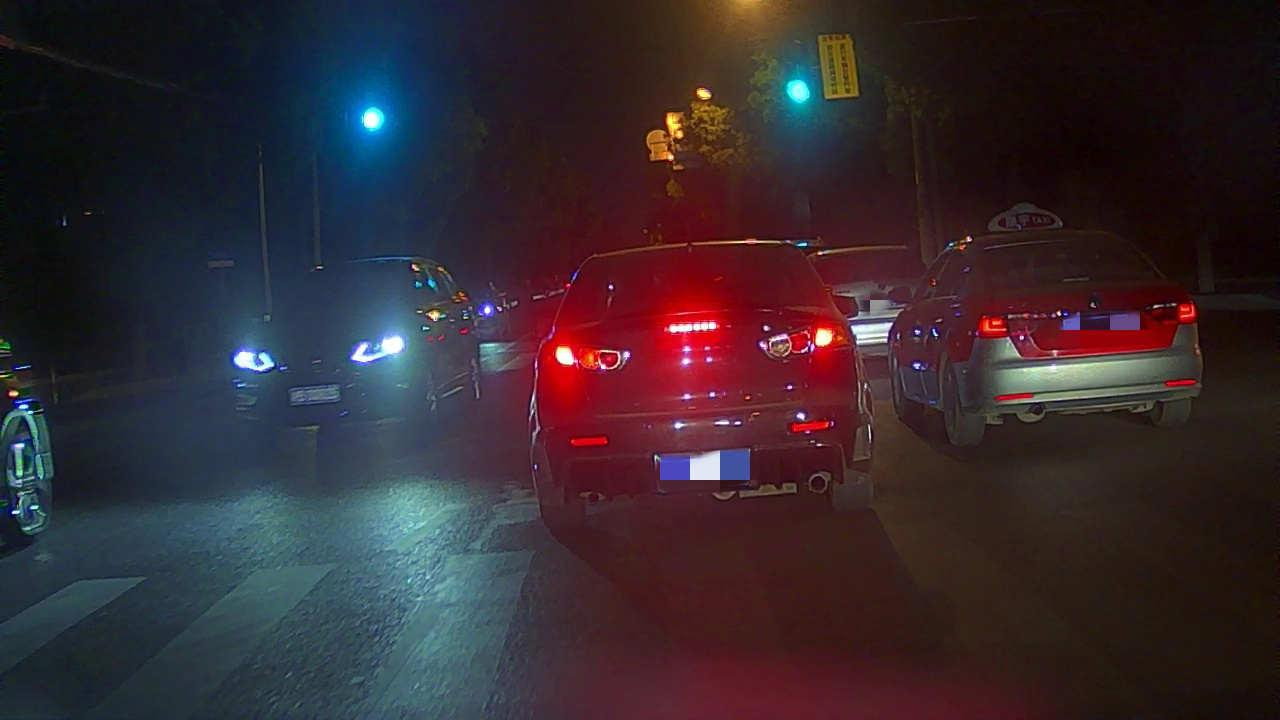traffic_light: (782, 70, 820, 110), (356, 98, 392, 135)
